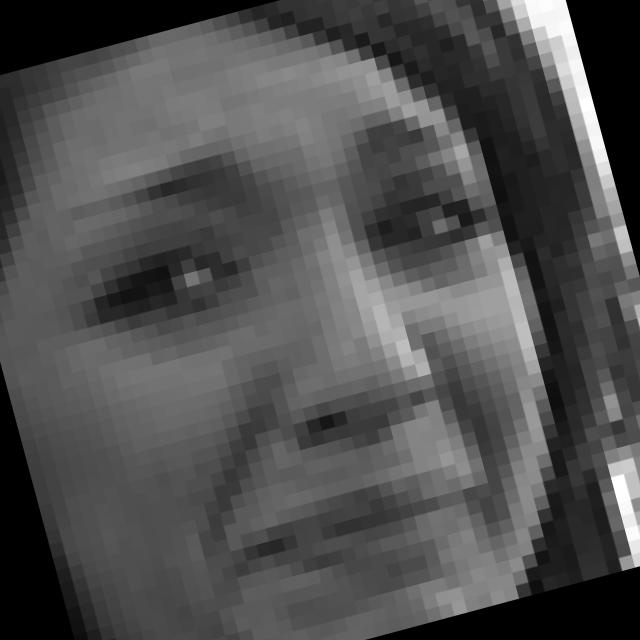sad: (37, 83, 566, 640)
